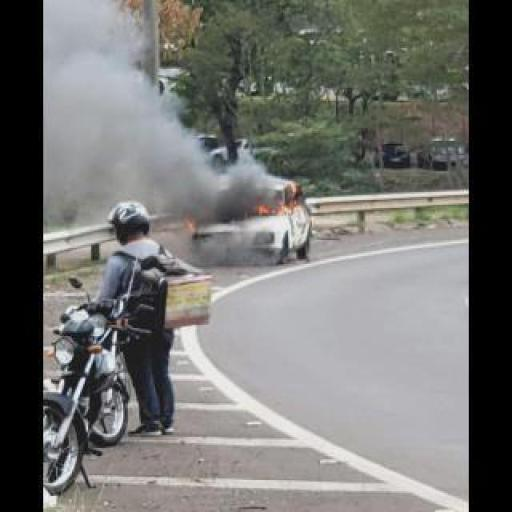smoke: (42, 0, 281, 214), (253, 200, 286, 213), (180, 216, 194, 230)
